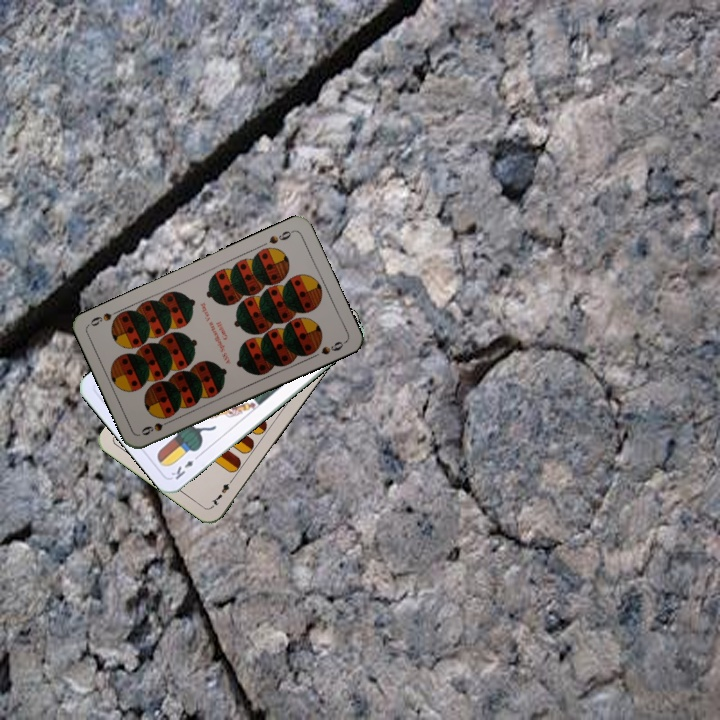E7: (207, 474, 236, 509)
EK: (167, 450, 203, 482)
S9: (137, 415, 176, 438), (265, 226, 296, 247)
